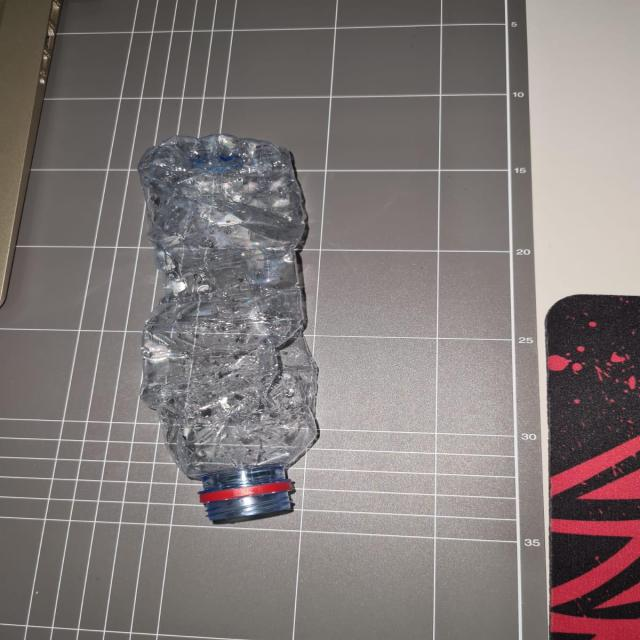bottle: (132, 136, 336, 522)
